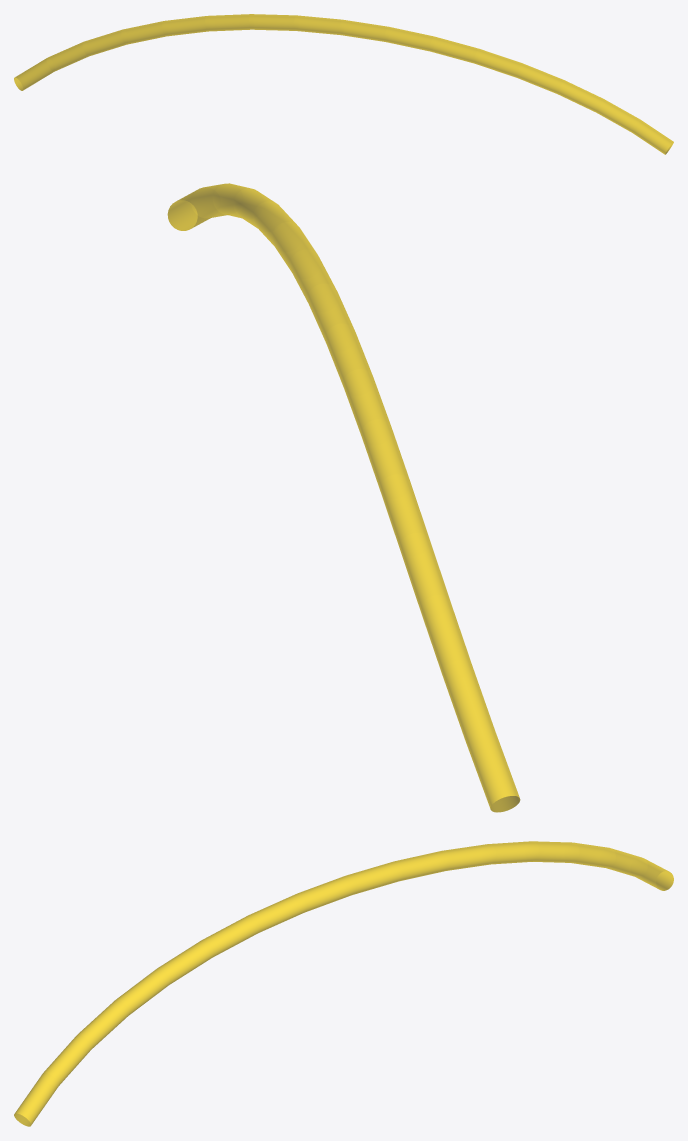
Rendered from Event_27938768_track_67.fbx.
3 renders of one model, top to bottom at view 1: azimuth 30°, elevation 25°; view 2: azimuth 150°, elevation 25°; view 3: azimuth 270°, elevation 25°, orthographic. The views are drawn at different scales.
Parts seen in each view (by area): view 1: Model; view 2: Model; view 3: Model.
Part boxes in pixels (left/top/right/bottom): Model: left=14, top=14, right=673, bottom=154; Model: left=167, top=183, right=520, bottom=812; Model: left=14, top=841, right=673, bottom=1126.
Bounding box in the file's own units: 1.22 × 0.3042 × 1.28.
